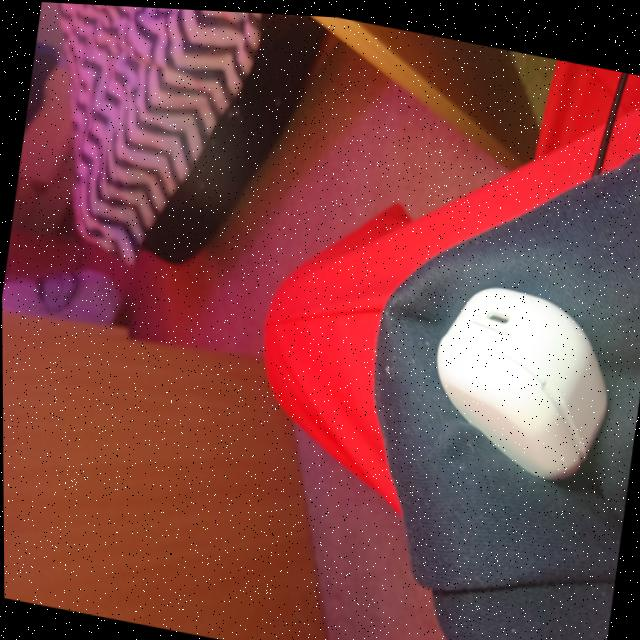headphones: (437, 282, 606, 473)
